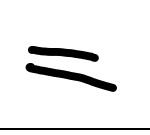eqv: (27, 46, 117, 91)
